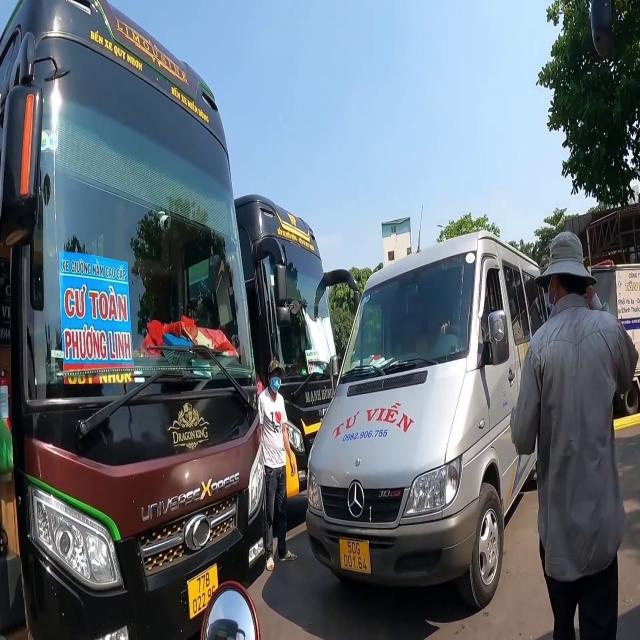bien_vang: (186, 564, 220, 620), (341, 538, 372, 573)
